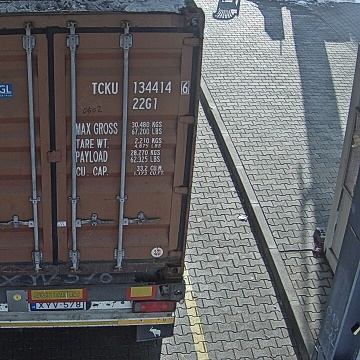serial_id: (91, 81, 187, 94)
